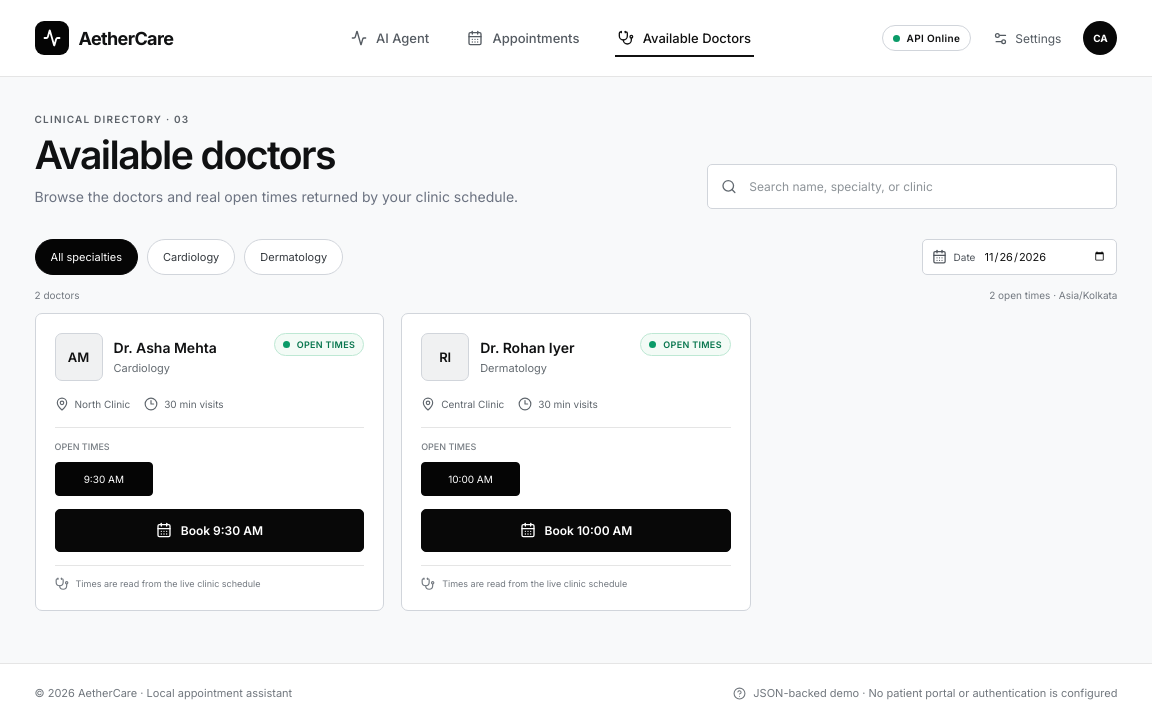
Scenario: AetherCare client screens › validates and submits a confirmed booking from a doctor slot
Click the button "Book 9:30 AM" at point(209, 530), box [54,509,364,552]
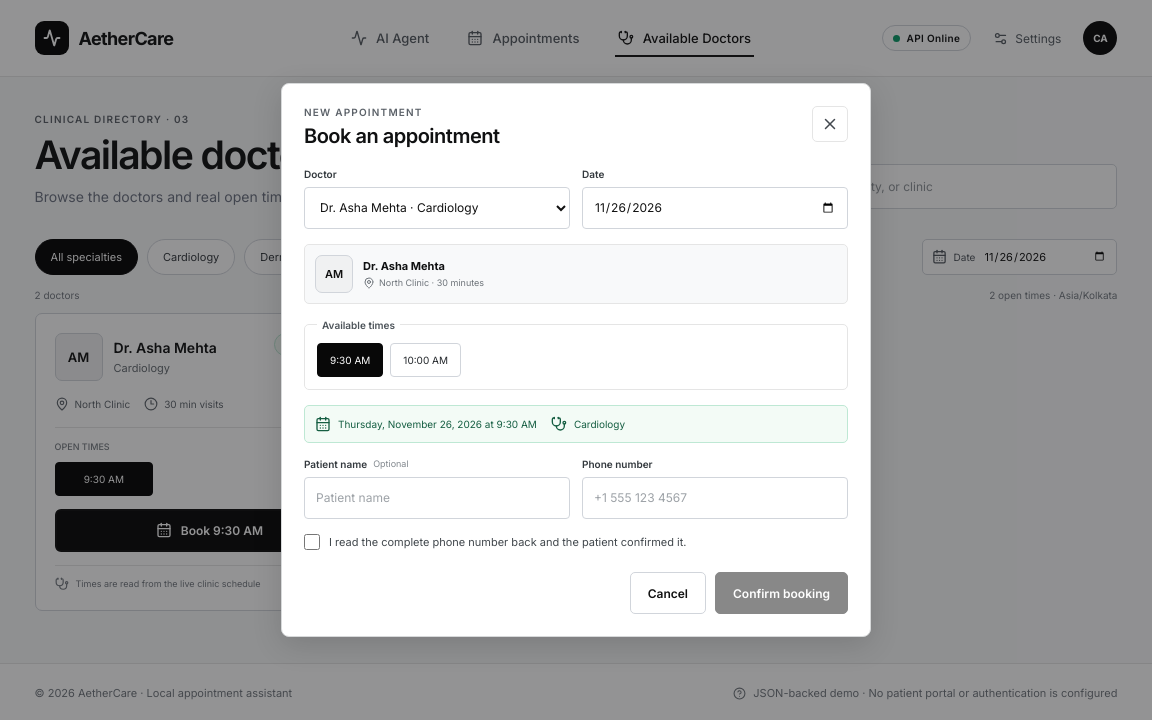
Expected: the dialog "Book an appointment" is shown, [281,83,871,637]
Type "Sam" into the field with placeholder "Patient name" at point(437, 498), box [304,477,570,519]
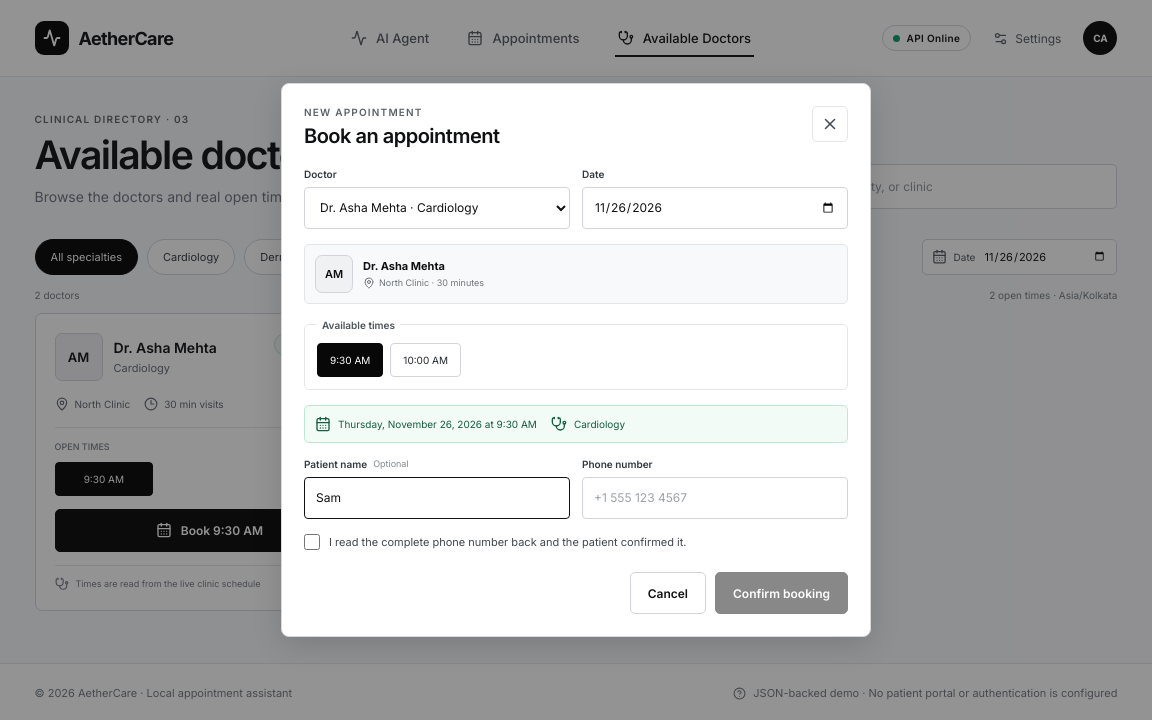
Type "+911234567890" into the field with placeholder "+1 555 123 4567" at point(715, 498), box [582,477,848,519]
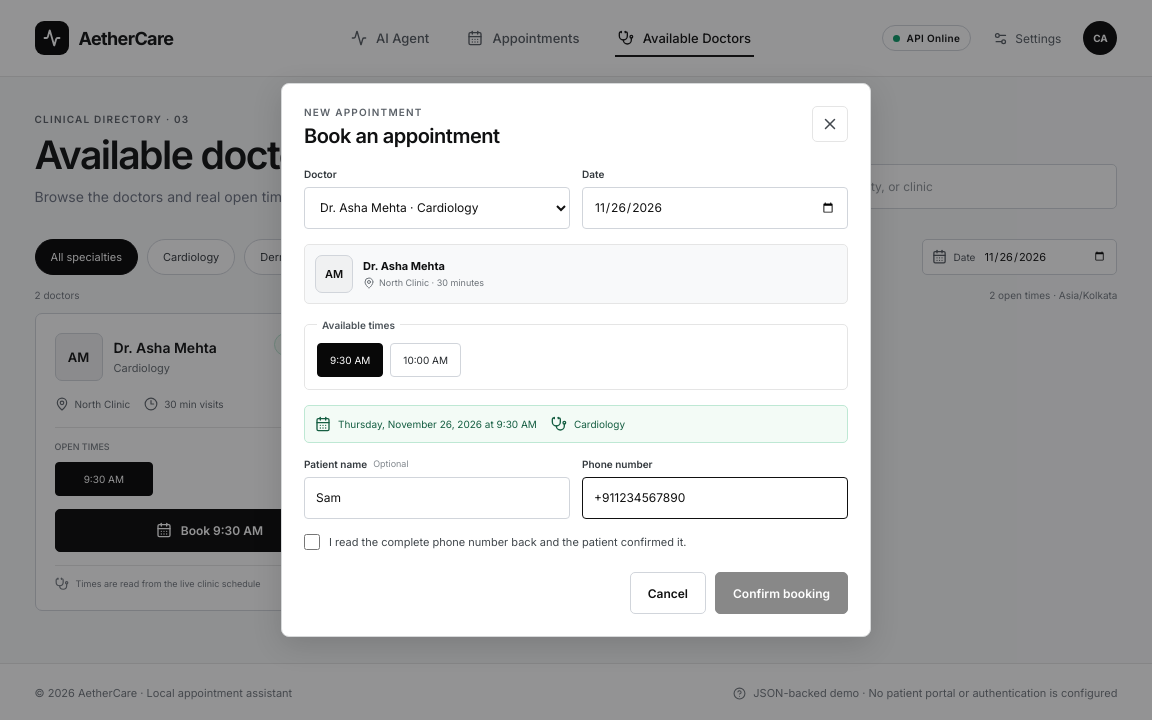
Expected: the button "Confirm booking" is disabled, [715,572,848,614]
Click the text "I read the complete phone number back and the patient confirmed it." at point(508, 542), box [329,534,686,551]
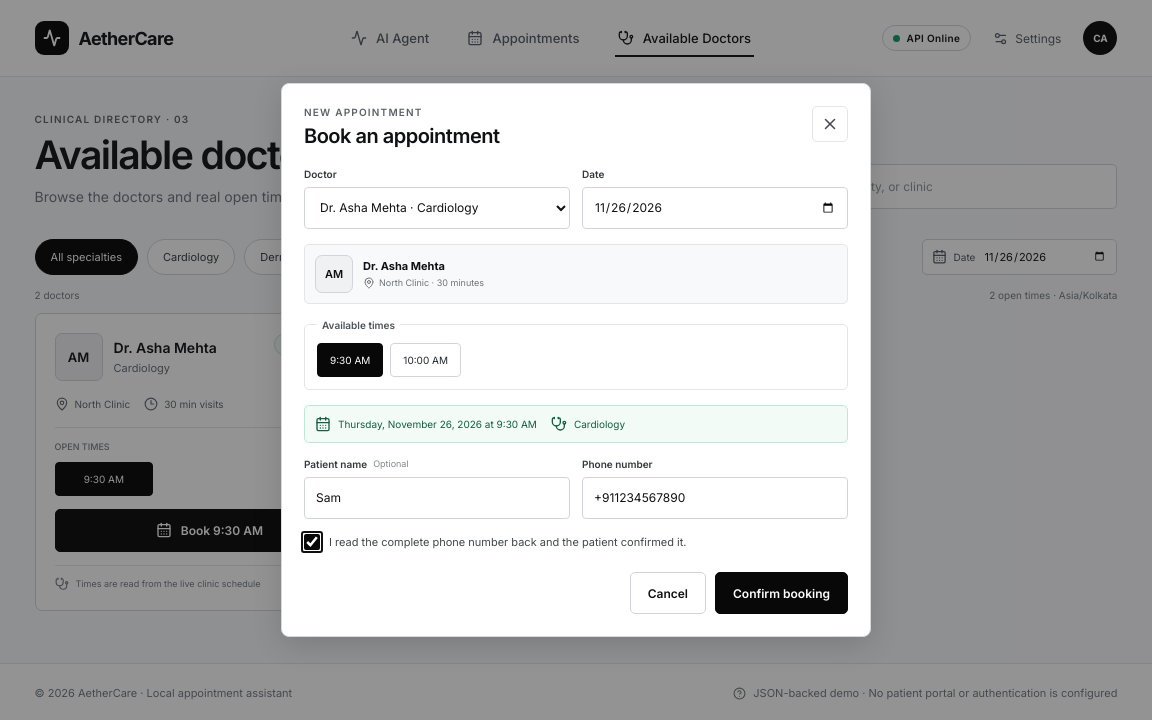
Expected: the button "Confirm booking" is enabled
Click the button "Confirm booking" at point(782, 593), box [715,572,848,614]
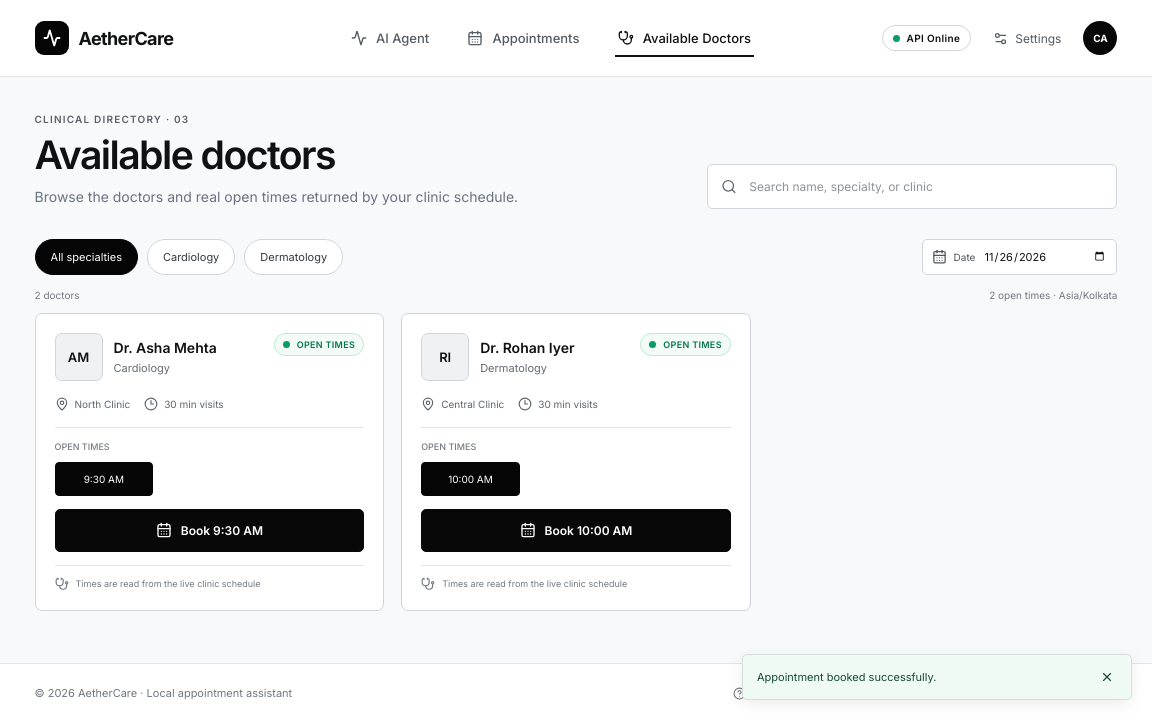
Expected: the text "Appointment booked successfully." is shown, [757,669,936,685]
